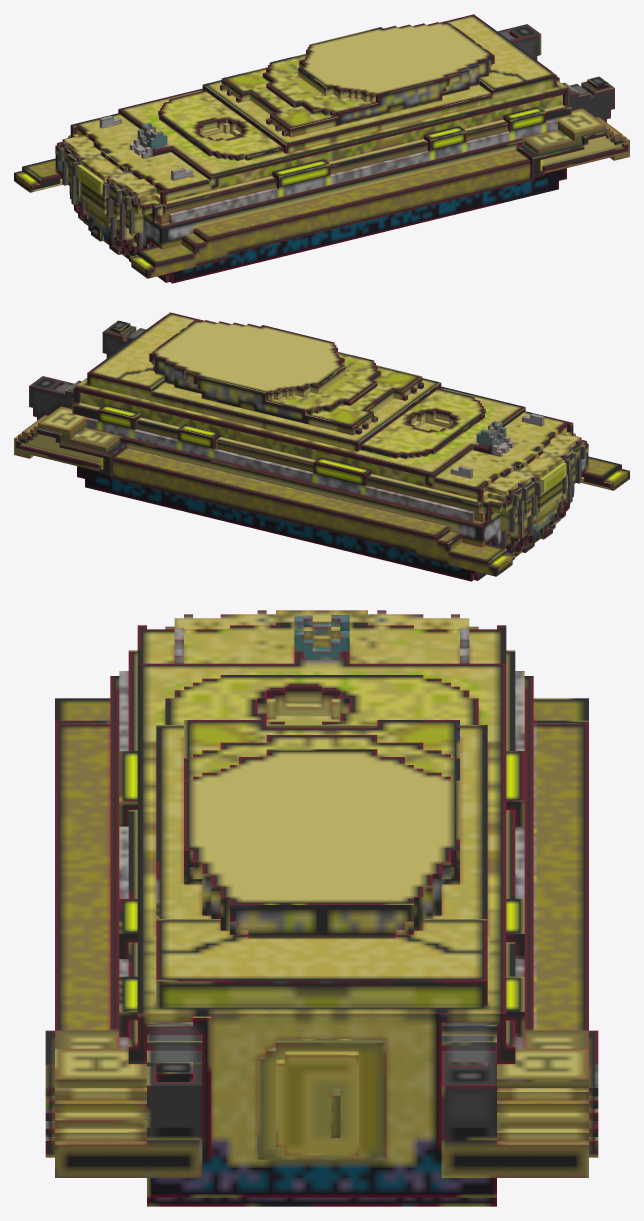
Rendered from Player  2 .fbx.
3 views of the same model, one above another, from view 1: azimuth 30°, elevation 25°; view 2: azimuth 150°, elevation 25°; view 3: azimuth 270°, elevation 25° (orthographic). The views are drawn at different scales.
Parts seen in each view (by area): view 1: Untitled; view 2: Untitled; view 3: Untitled.
Boxes of the visible parts, x1,y1,x2,y2 form: Untitled: (14, 14, 629, 283); Untitled: (14, 312, 629, 581); Untitled: (45, 610, 598, 1206).
Size of the model in its own units: 1230 by 310 by 600.
Materials: 1 (1 with a texture image).
